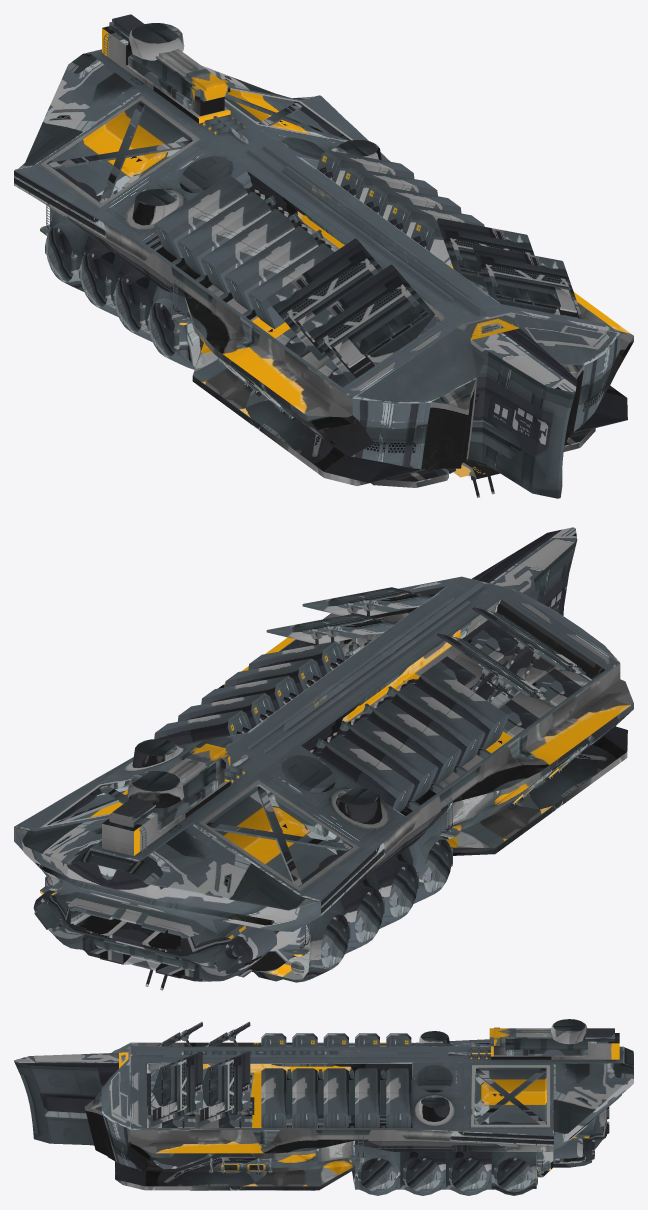
File: apa_vaulters_corvette.glb
3 renders of one model, top to bottom at view 1: azimuth 30°, elevation 25°; view 2: azimuth 150°, elevation 25°; view 3: azimuth 270°, elevation 25°, orthographic. The views are drawn at different scales.
Visible parts, largest first — view 1: apa_vaulters_corvette; view 2: apa_vaulters_corvette; view 3: apa_vaulters_corvette.
Part boxes in pixels (x1,y1,x2,y2): apa_vaulters_corvette: [14, 14, 633, 498]; apa_vaulters_corvette: [14, 527, 633, 990]; apa_vaulters_corvette: [14, 1019, 633, 1195].
Size of the model in its own units: 34.96 by 22.63 by 86.44.
Materials: 2 (2 with a texture image).
